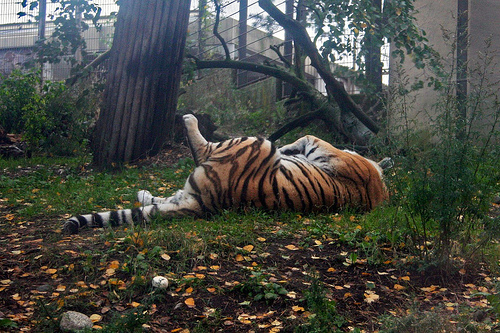Tigre: (110, 112, 396, 226)
